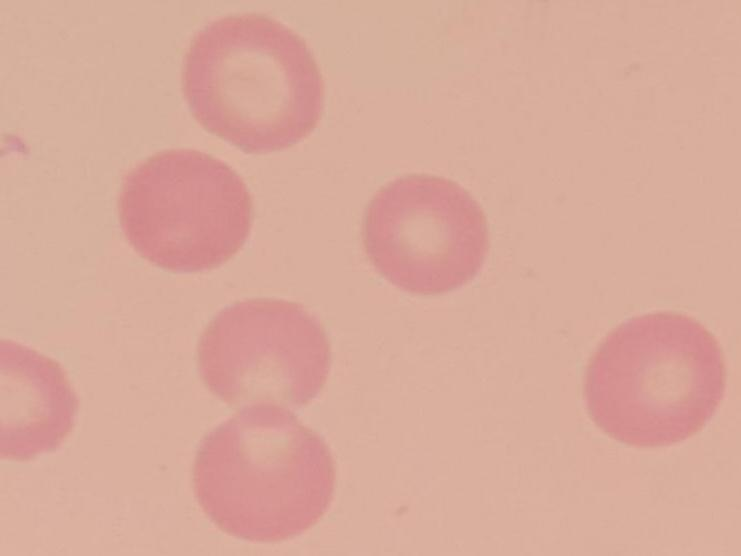Uninfected: (193, 399, 338, 541), (180, 13, 326, 151), (584, 308, 726, 448), (196, 293, 328, 423), (119, 153, 255, 277), (359, 173, 492, 297), (0, 339, 80, 471)
